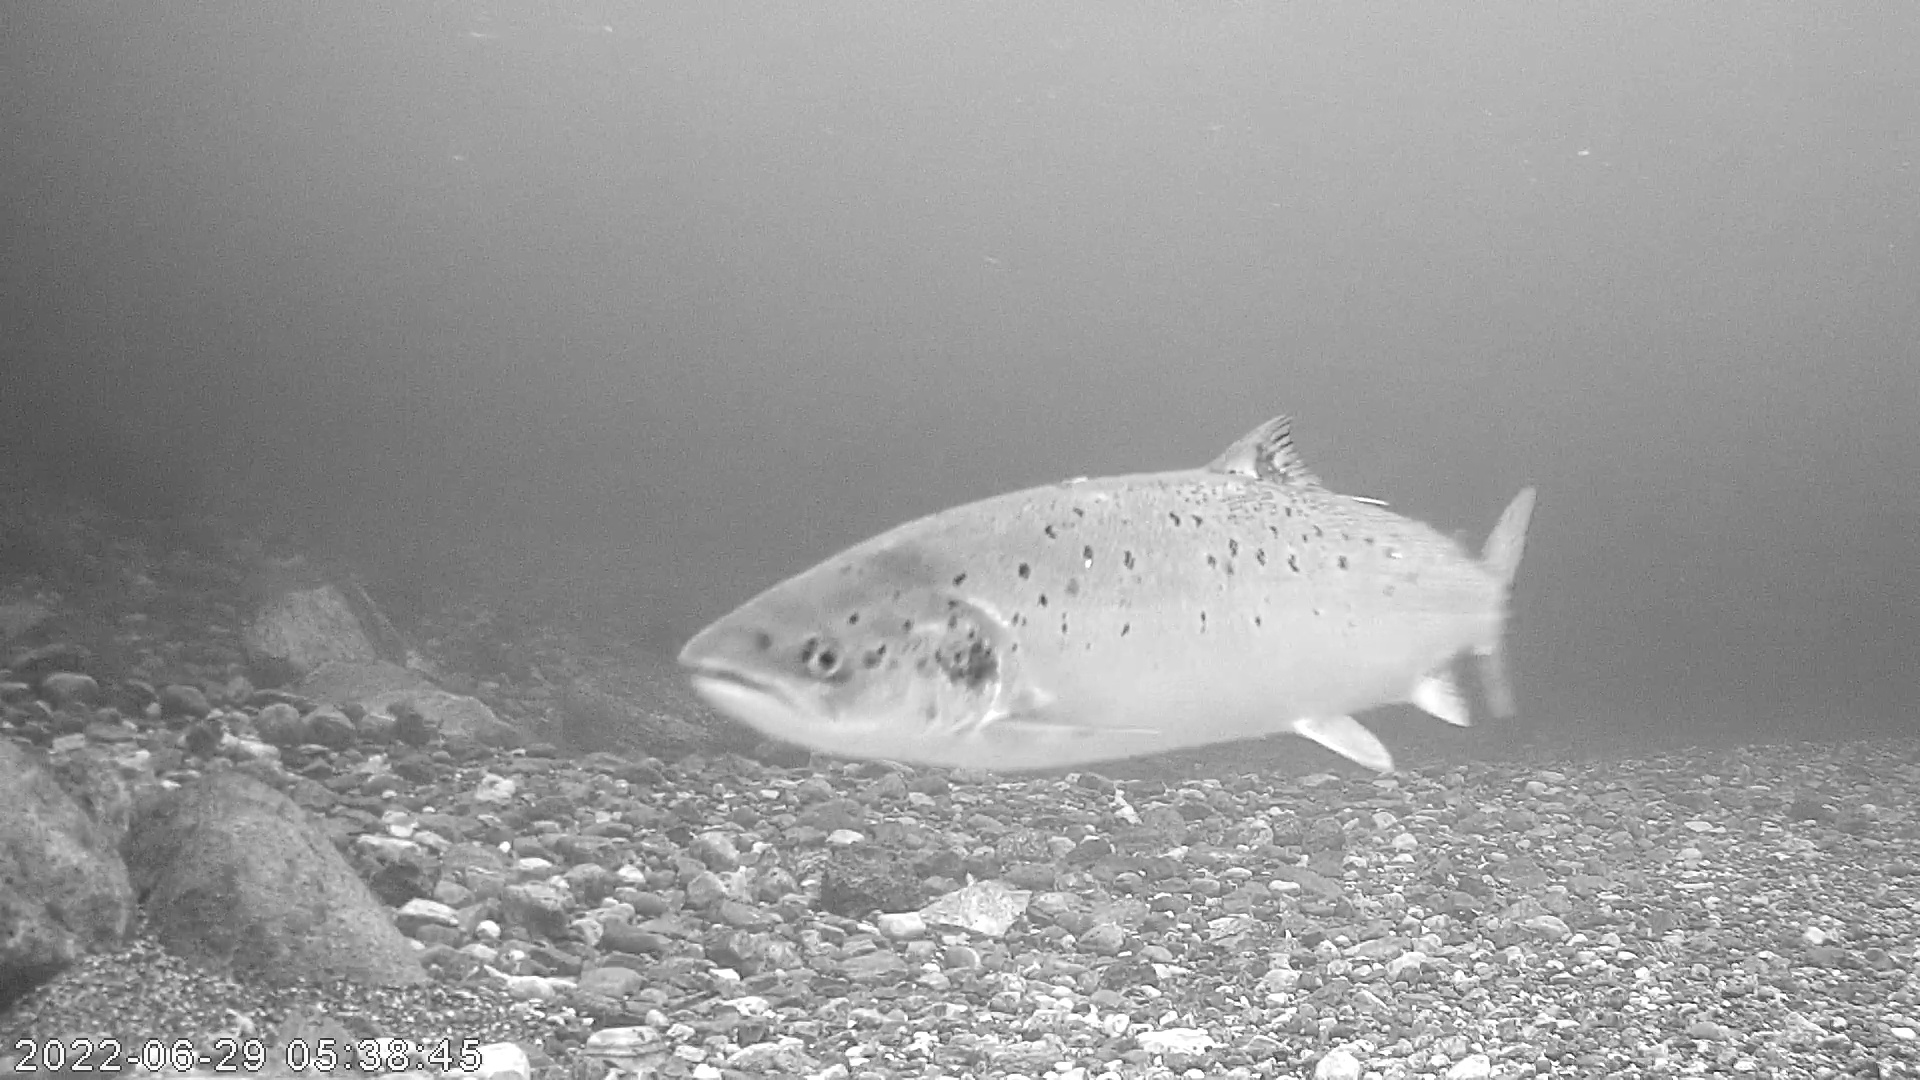salmon: (675, 340, 1534, 782)
